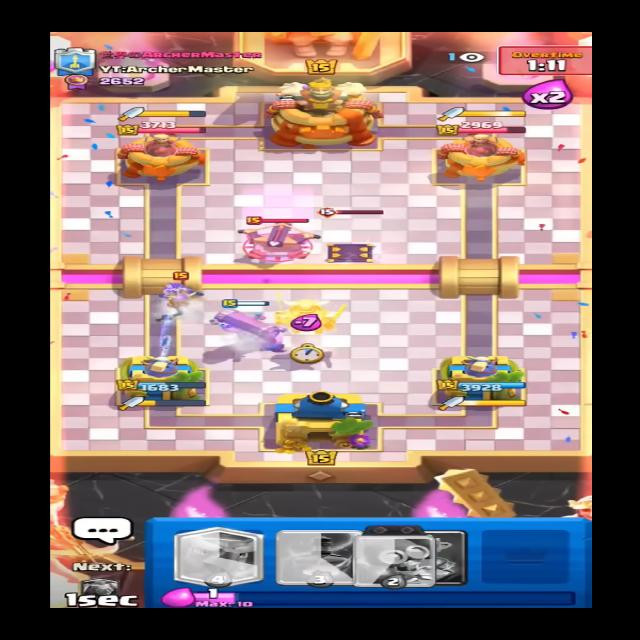electro-spirit: (150, 273, 206, 310)
evo-tesla-closed: (308, 208, 390, 266)
x-bow: (232, 214, 318, 264)
